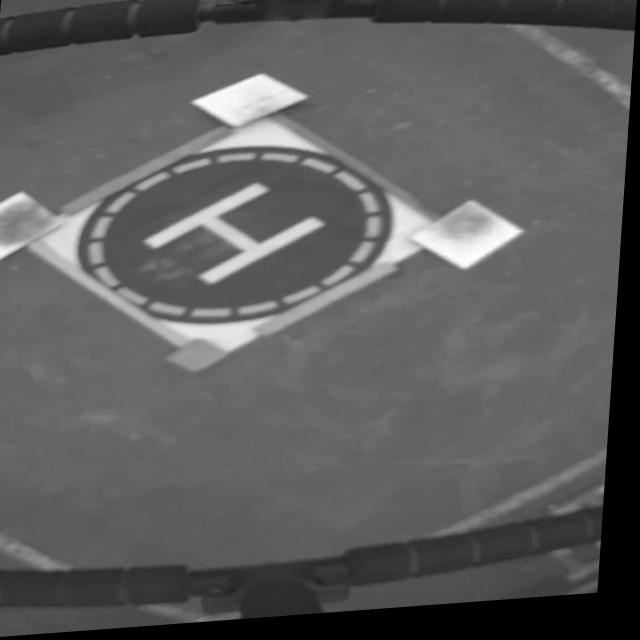Helipad: (145, 187, 328, 288)
